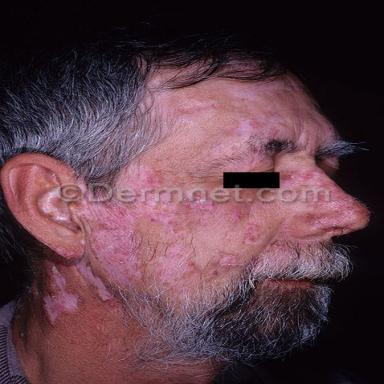Lupus-Erythematosus-Chronicus-Discoides: (77, 200, 185, 284), (282, 170, 369, 229), (43, 265, 81, 324), (151, 243, 199, 289), (228, 113, 287, 139), (76, 260, 113, 300), (118, 164, 160, 187), (184, 202, 215, 227), (230, 203, 268, 223), (244, 223, 261, 245), (219, 256, 237, 267)
